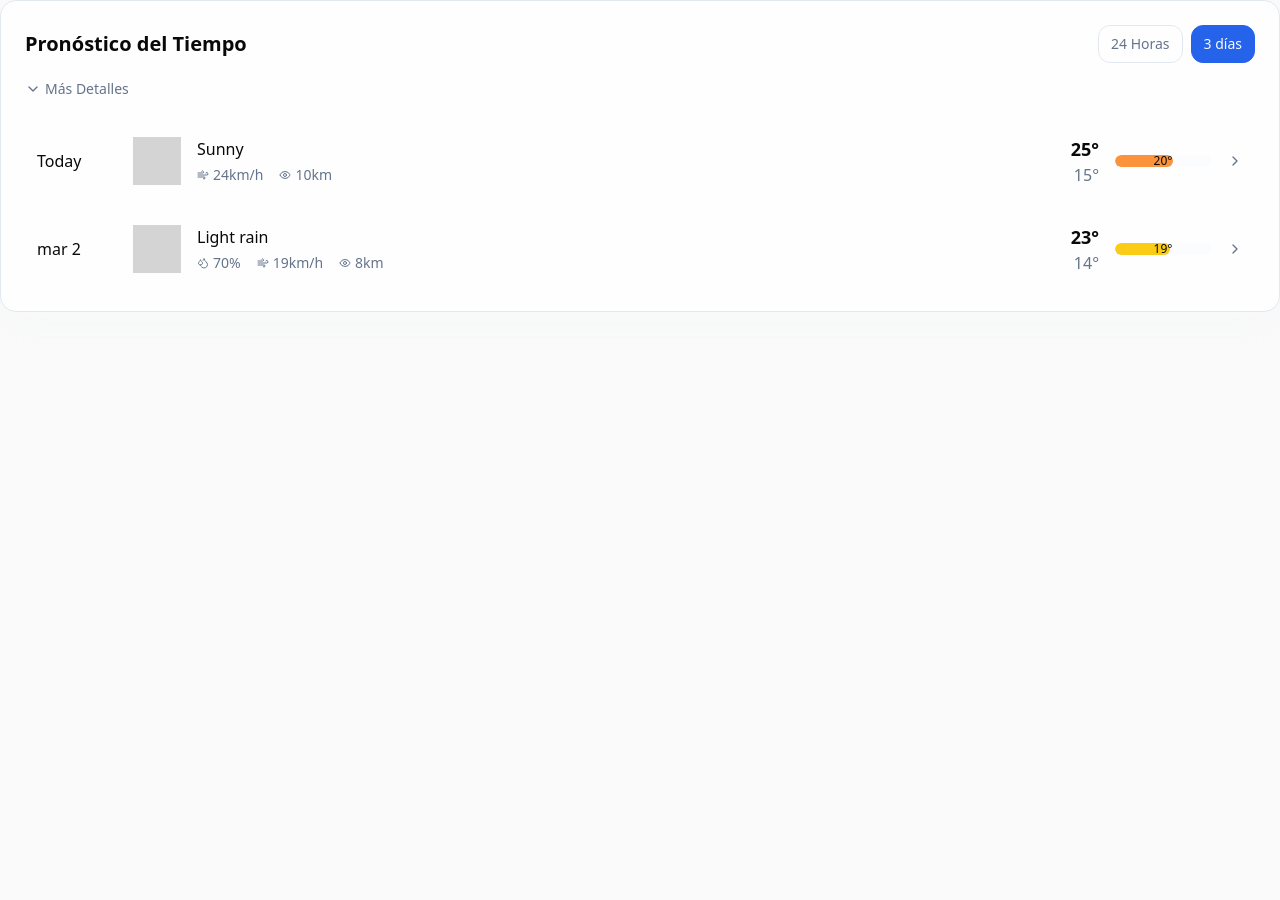
Scenario: DailyForecast › shows expanded details for selected day
Click the element with class "cursor-pointer" that starts with "Today" at (640, 161), box [25,123,1255,199]
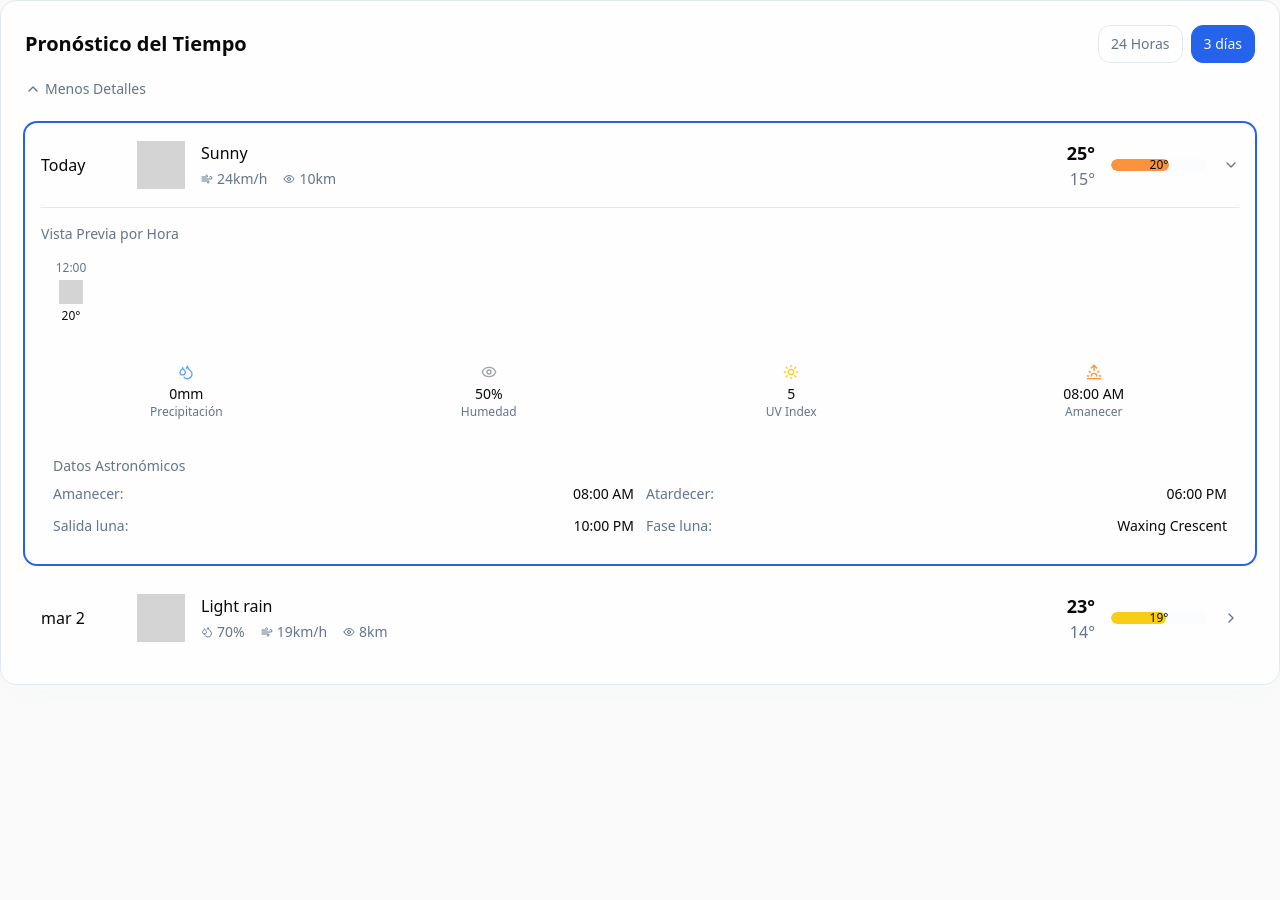
Expected: the text "Vista Previa por Hora" is shown, [41,224,179,243]
Expected: the text "Datos Astronómicos" is shown, [53,456,185,475]
